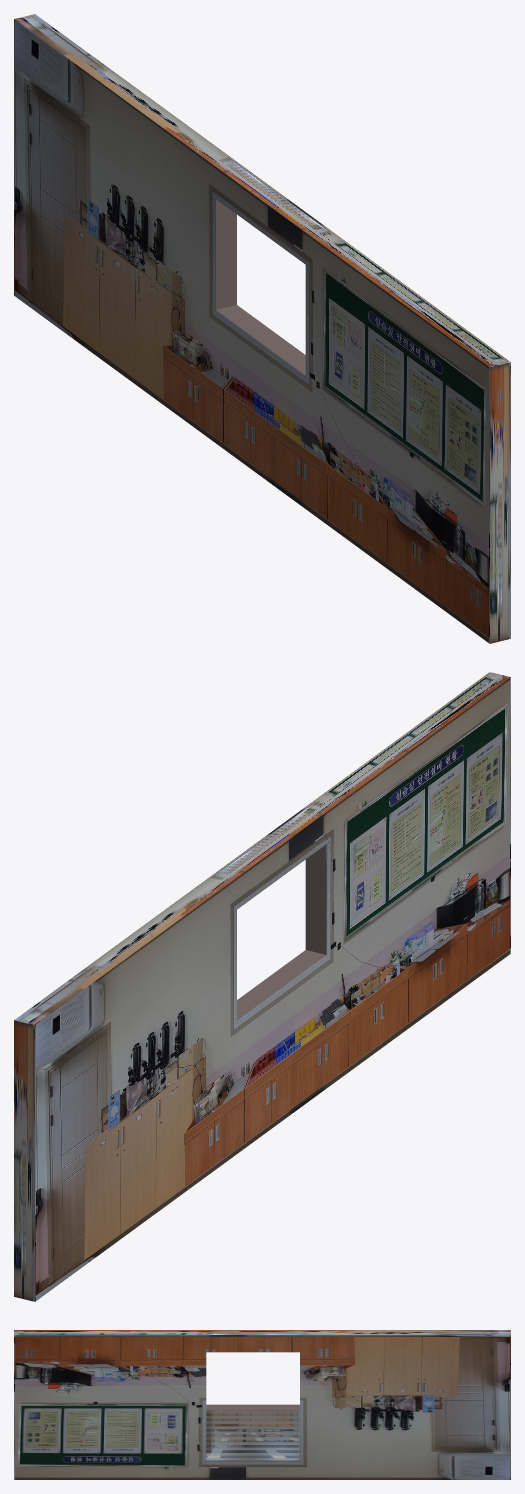
Rendered from wall02.fbx.
3 renders of one model, top to bottom at view 1: azimuth 30°, elevation 25°; view 2: azimuth 150°, elevation 25°; view 3: azimuth 270°, elevation 25°, orthographic. The views are drawn at different scales.
Visible parts, largest first — view 1: Cube; view 2: Cube; view 3: Cube.
Boxes of the visible parts, x1,y1,x2,y2 form: Cube: [14, 14, 510, 643]; Cube: [14, 672, 510, 1301]; Cube: [14, 1330, 510, 1479].
Bounding box in the file's own units: 40 × 500 × 1560.
